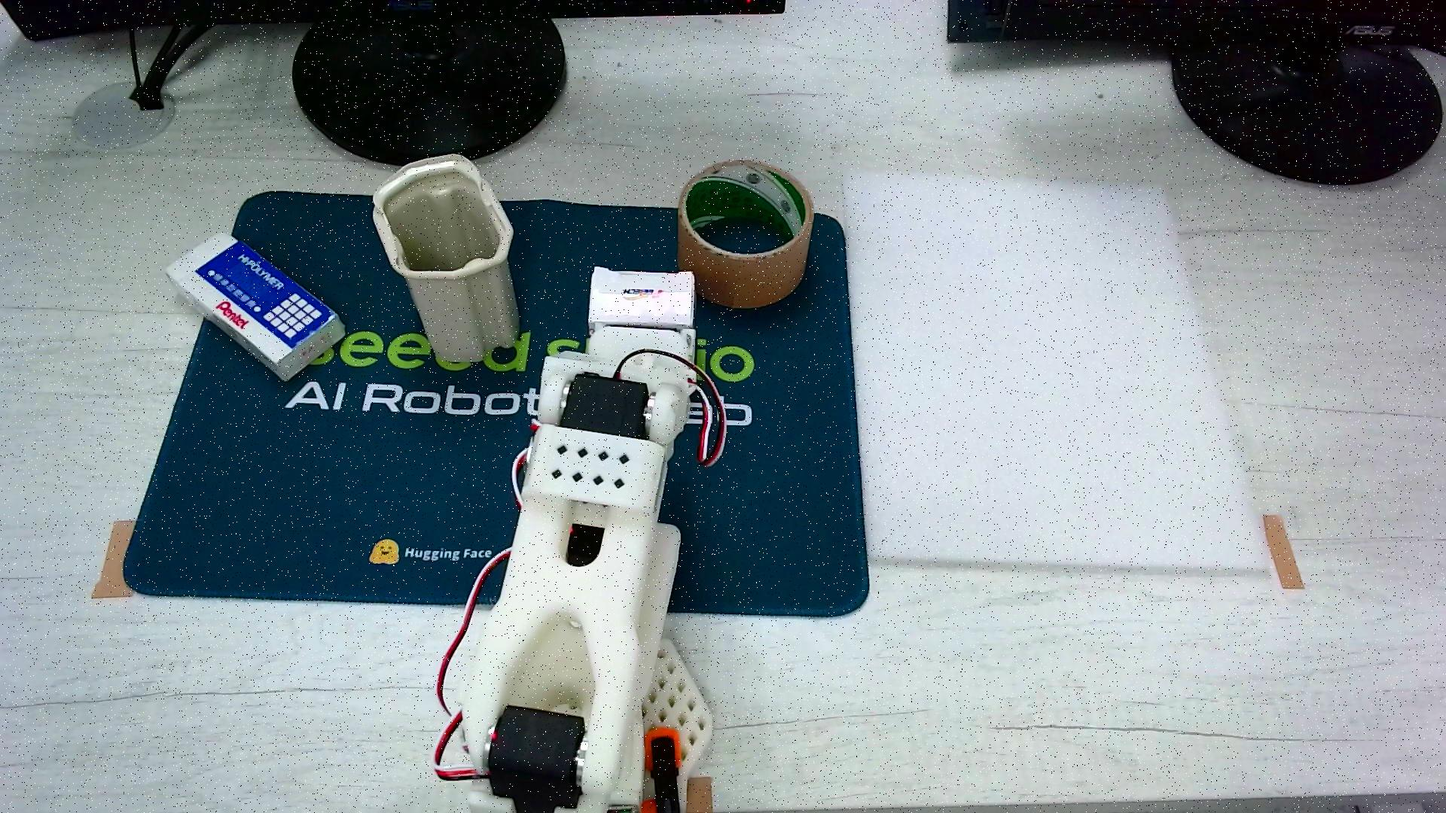eraser: (588, 266, 694, 330)
